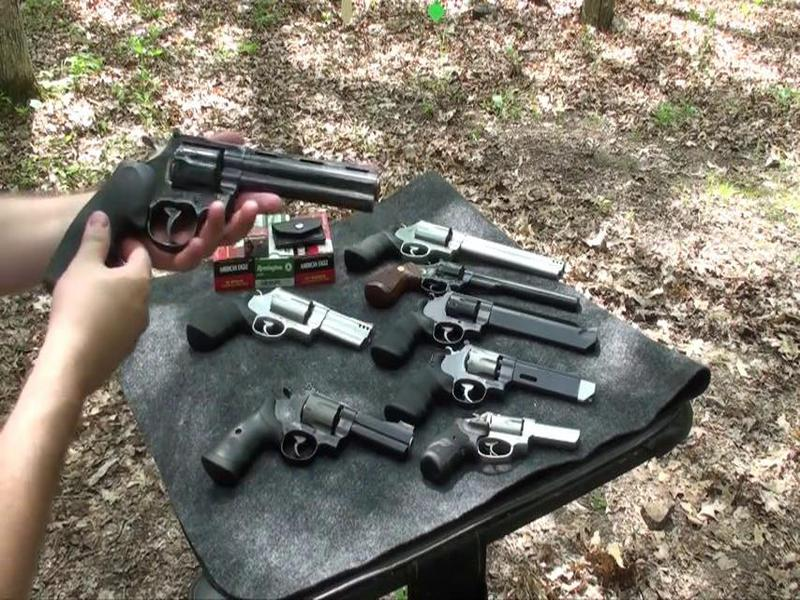Revolver: (61, 97, 373, 311)
